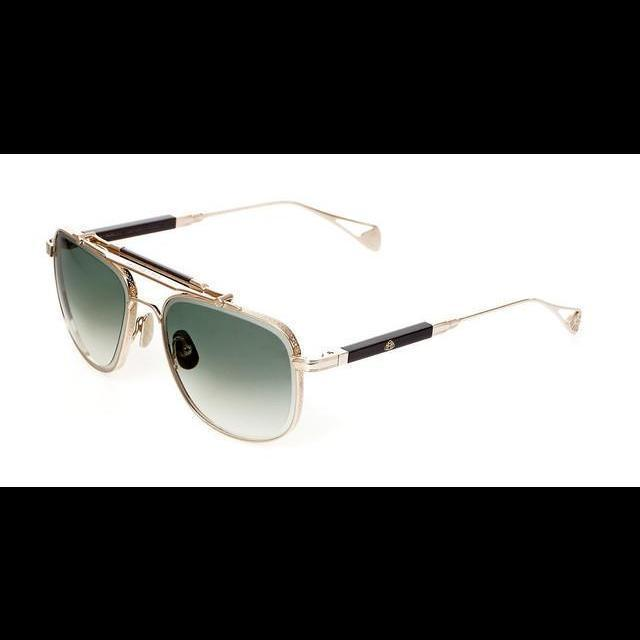glasses: (48, 198, 582, 446)
